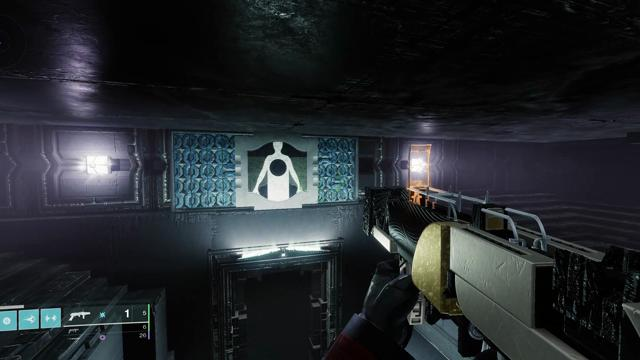grief: (247, 141, 307, 200)
